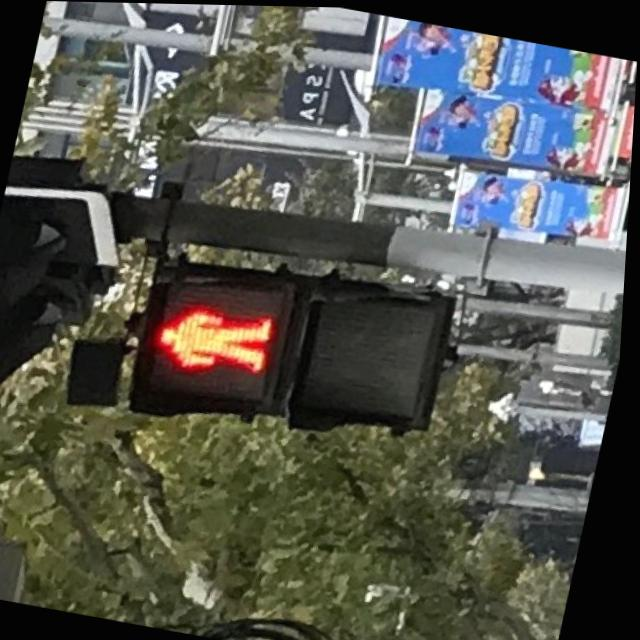red_light: (144, 284, 287, 388)
